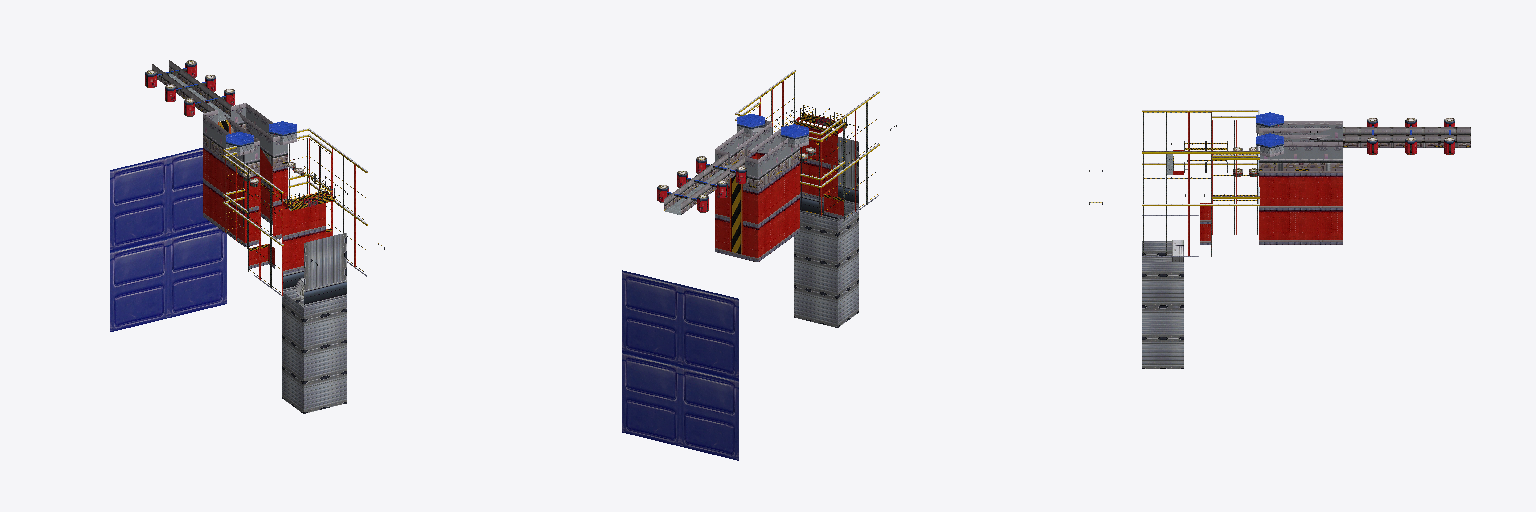
3 renders of one model, left to right at view 1: azimuth 30°, elevation 25°; view 2: azimuth 150°, elevation 25°; view 3: azimuth 270°, elevation 25°, orthographic.
Visible parts, largest first — view 1: s13_on_10_2, s13_on_10_3, s13_on_10_5, s13_on_10_22, s13_on_10_17, s13_on_10_4, s13_on_10_0, s13_on_10_14, s13_on_10_9, s13_on_10_18, s13_on_10_13, s13_on_10_7 (+1 smaller); view 2: s13_on_10_2, s13_on_10_3, s13_on_10_5, s13_on_10_22, s13_on_10_17, s13_on_10_0, s13_on_10_14, s13_on_10_9, s13_on_10_4, s13_on_10_13; view 3: s13_on_10_5, s13_on_10_3, s13_on_10_17, s13_on_10_22, s13_on_10_9, s13_on_10_7, s13_on_10_14, s13_on_10_6, s13_on_10_13.
Boxes of the visible parts, box(x1,y1,x2,y2) form: s13_on_10_2: box(110, 148, 226, 331); s13_on_10_3: box(282, 233, 346, 413); s13_on_10_5: box(203, 144, 331, 273); s13_on_10_22: box(203, 103, 287, 163); s13_on_10_17: box(152, 60, 287, 172); s13_on_10_4: box(283, 269, 346, 306); s13_on_10_0: box(218, 120, 381, 292); s13_on_10_14: box(145, 63, 296, 146); s13_on_10_9: box(157, 69, 354, 287); s13_on_10_18: box(236, 138, 355, 295); s13_on_10_13: box(157, 68, 296, 144); s13_on_10_7: box(223, 129, 367, 245); s13_on_10_2: box(622, 270, 738, 460); s13_on_10_3: box(794, 137, 858, 327); s13_on_10_5: box(715, 117, 843, 261); s13_on_10_22: box(715, 120, 799, 178); s13_on_10_17: box(664, 149, 799, 214); s13_on_10_0: box(730, 74, 894, 254); s13_on_10_14: box(657, 124, 808, 212); s13_on_10_9: box(667, 73, 867, 220); s13_on_10_4: box(800, 184, 858, 221); s13_on_10_13: box(667, 114, 808, 199); s13_on_10_5: box(1173, 150, 1342, 244); s13_on_10_3: box(1142, 241, 1183, 368); s13_on_10_17: box(1259, 127, 1470, 170); s13_on_10_22: box(1259, 121, 1342, 160); s13_on_10_9: box(1143, 112, 1258, 256); s13_on_10_7: box(1142, 111, 1259, 205); s13_on_10_14: box(1256, 120, 1454, 154); s13_on_10_6: box(1142, 110, 1259, 204); s13_on_10_13: box(1256, 112, 1450, 146).
Bounding box in the file's own units: 700 × 1450 × 1984.
23 materials, 23 textured.